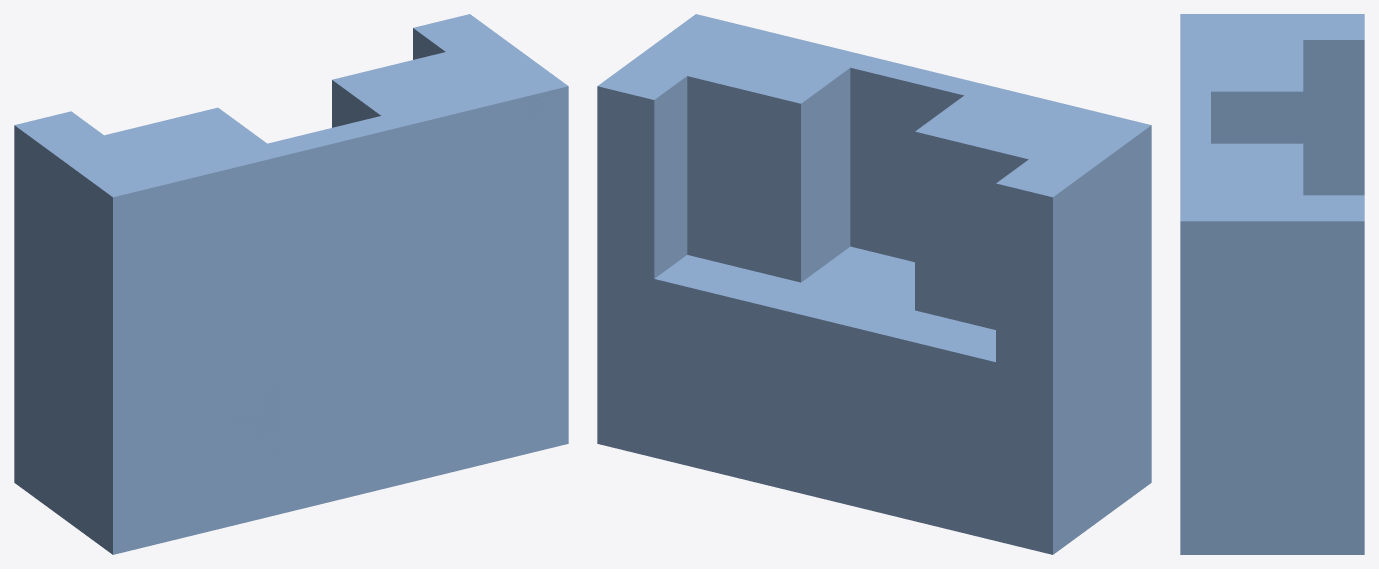
File: tslot.glb
The picture shows the model from 3 angles, left to right: view 1: azimuth 30°, elevation 25°; view 2: azimuth 150°, elevation 25°; view 3: azimuth 270°, elevation 25°; orthographic projection. The views are drawn at different scales.
Visible parts, largest first — view 1: tslot; view 2: tslot; view 3: tslot.
Part boxes in pixels (x1,y1,x2,y2): tslot: [14, 14, 568, 554]; tslot: [597, 14, 1151, 554]; tslot: [1180, 14, 1364, 554].
Bounding box in the file's own units: 80 × 60 × 30.
